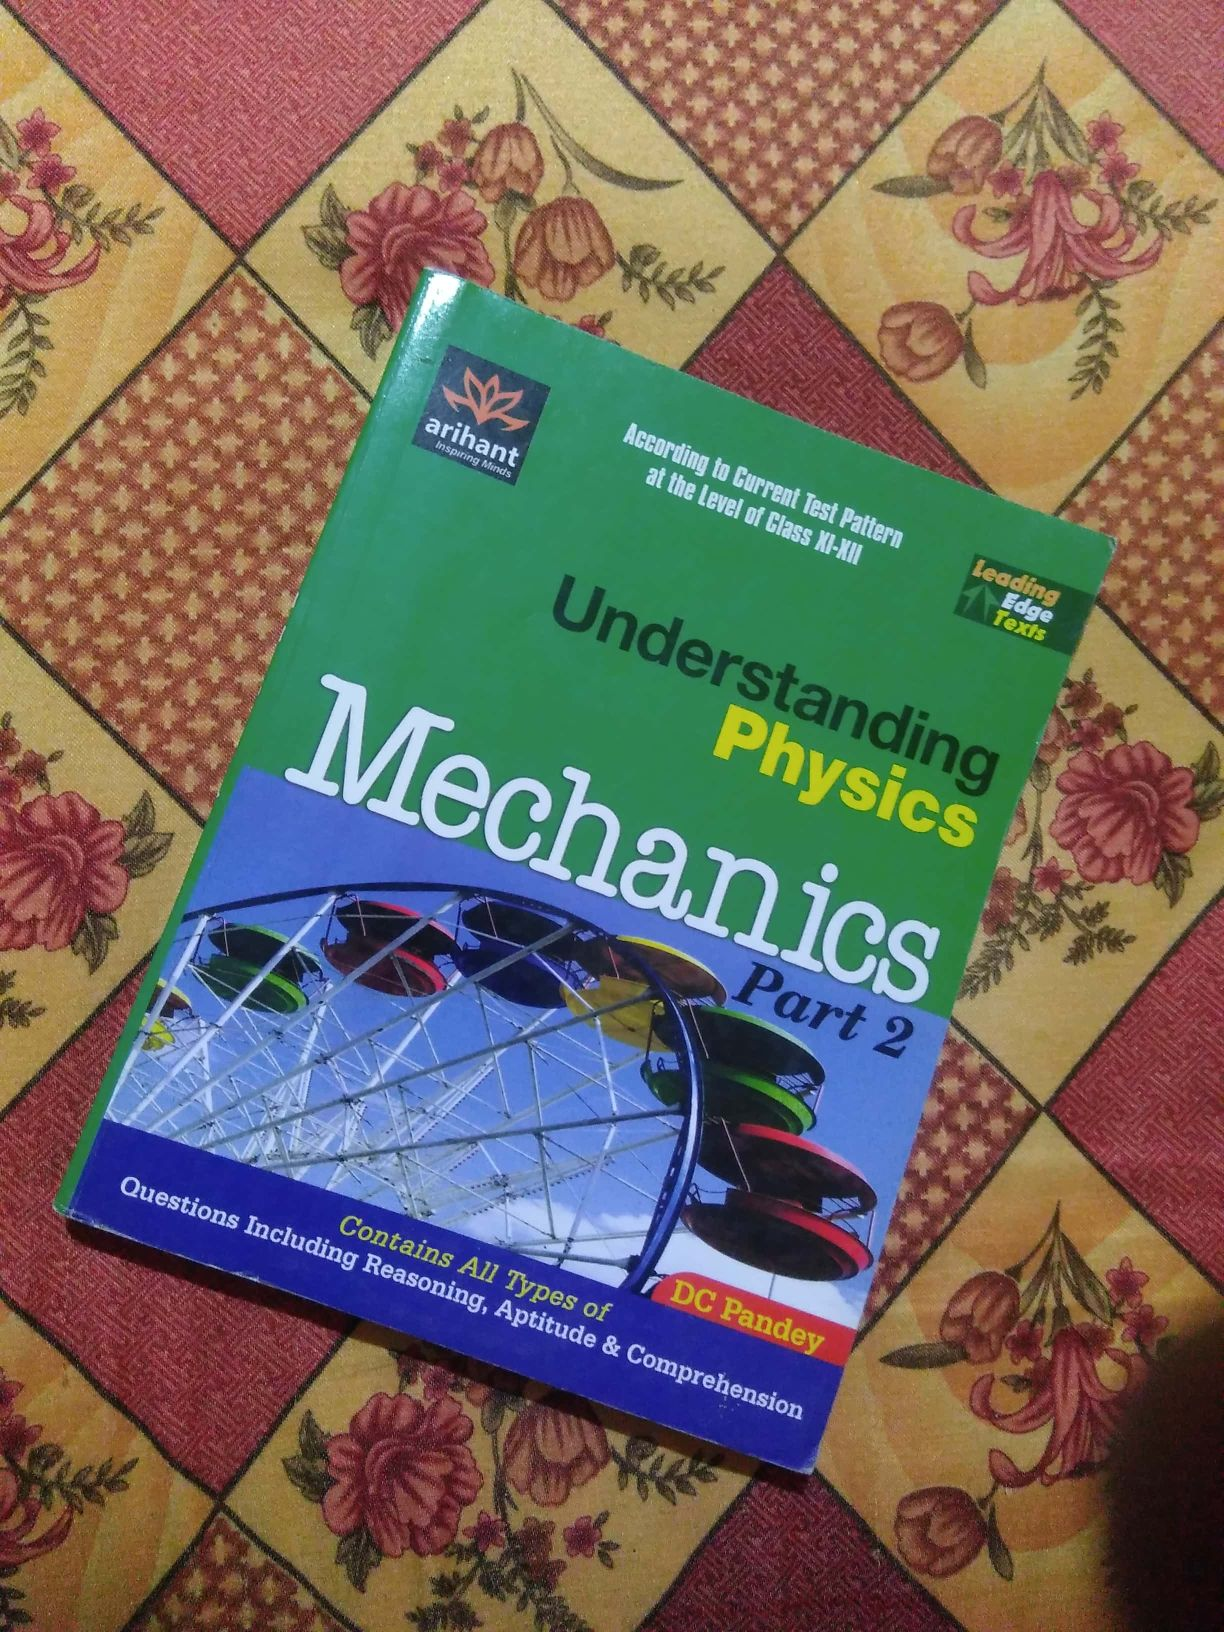mechanics: (131, 270, 1068, 1488)
